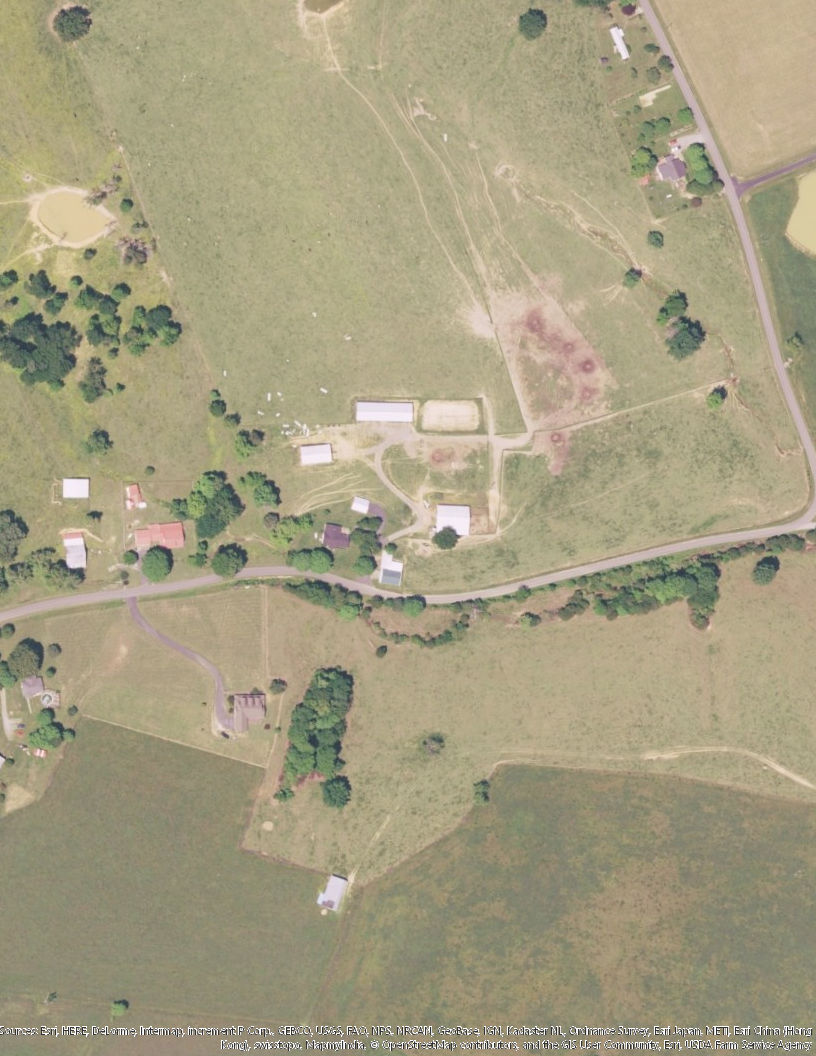cafo: (427, 501, 481, 544), (295, 438, 341, 471), (355, 398, 417, 422)
